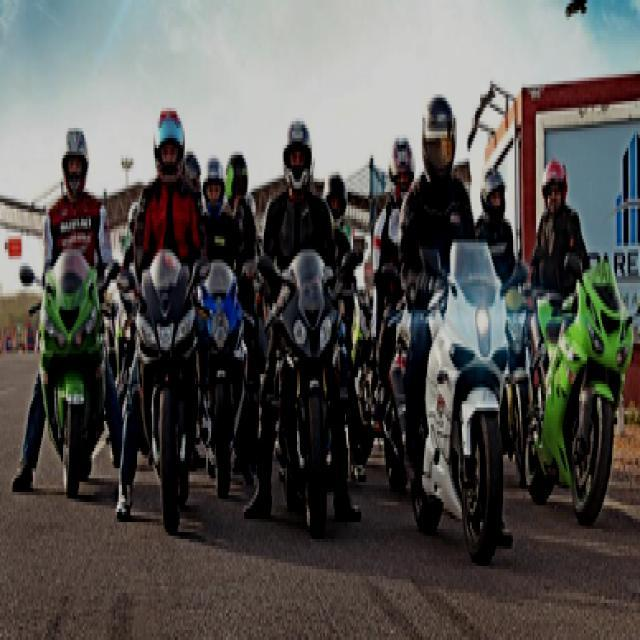Helmet: (419, 90, 457, 178), (150, 101, 187, 179), (280, 118, 315, 189), (58, 124, 90, 196), (538, 154, 570, 212), (478, 162, 508, 220), (203, 154, 228, 222)
